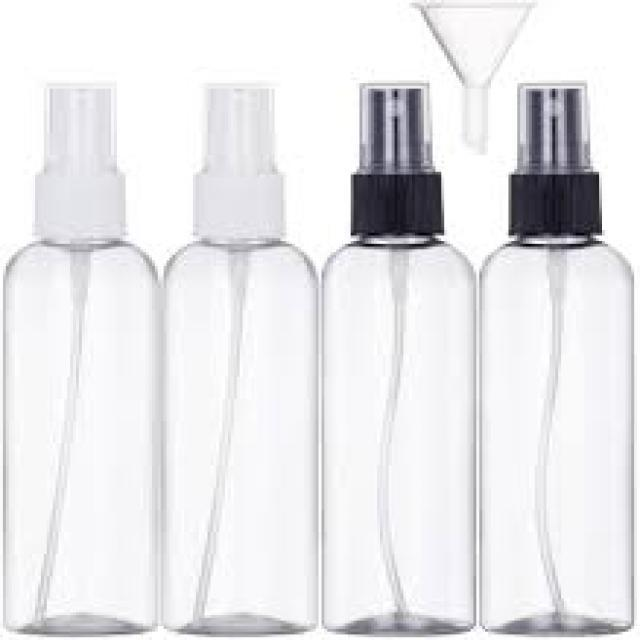Glass: (157, 242, 322, 634), (320, 244, 481, 636), (480, 241, 640, 630), (0, 244, 157, 636)
